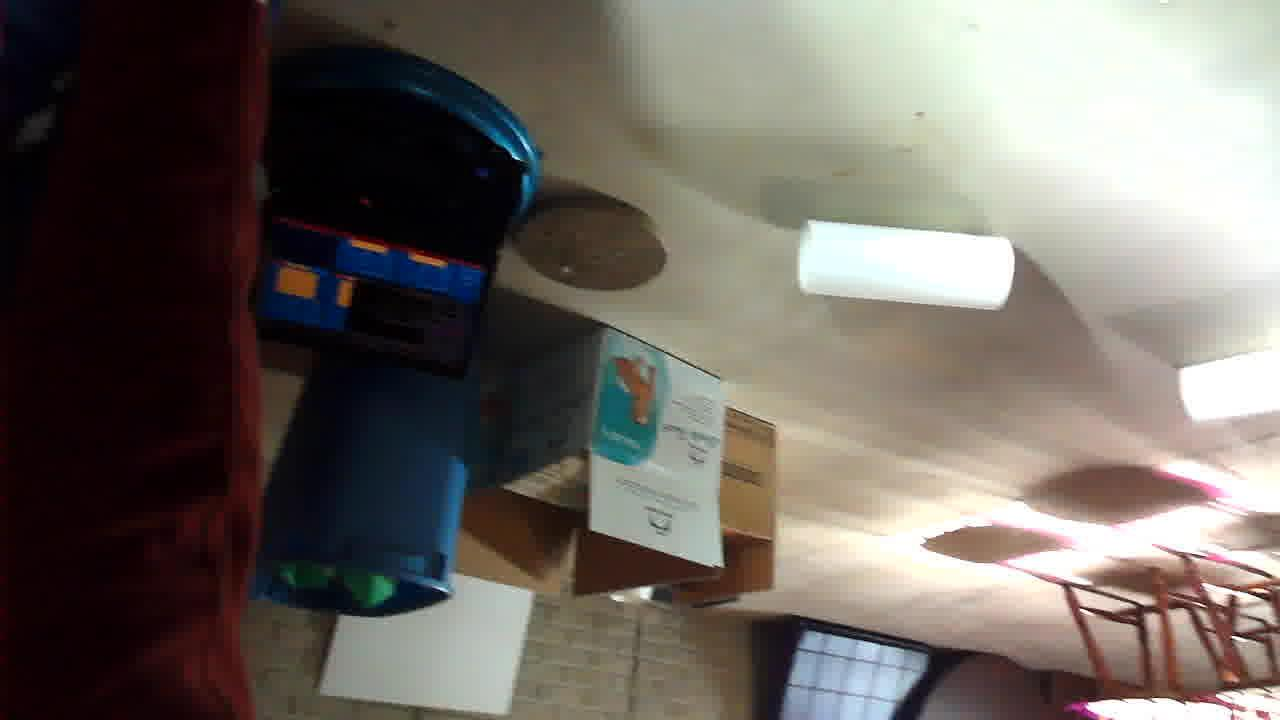coral: (259, 402, 488, 506), (0, 300, 97, 362)
